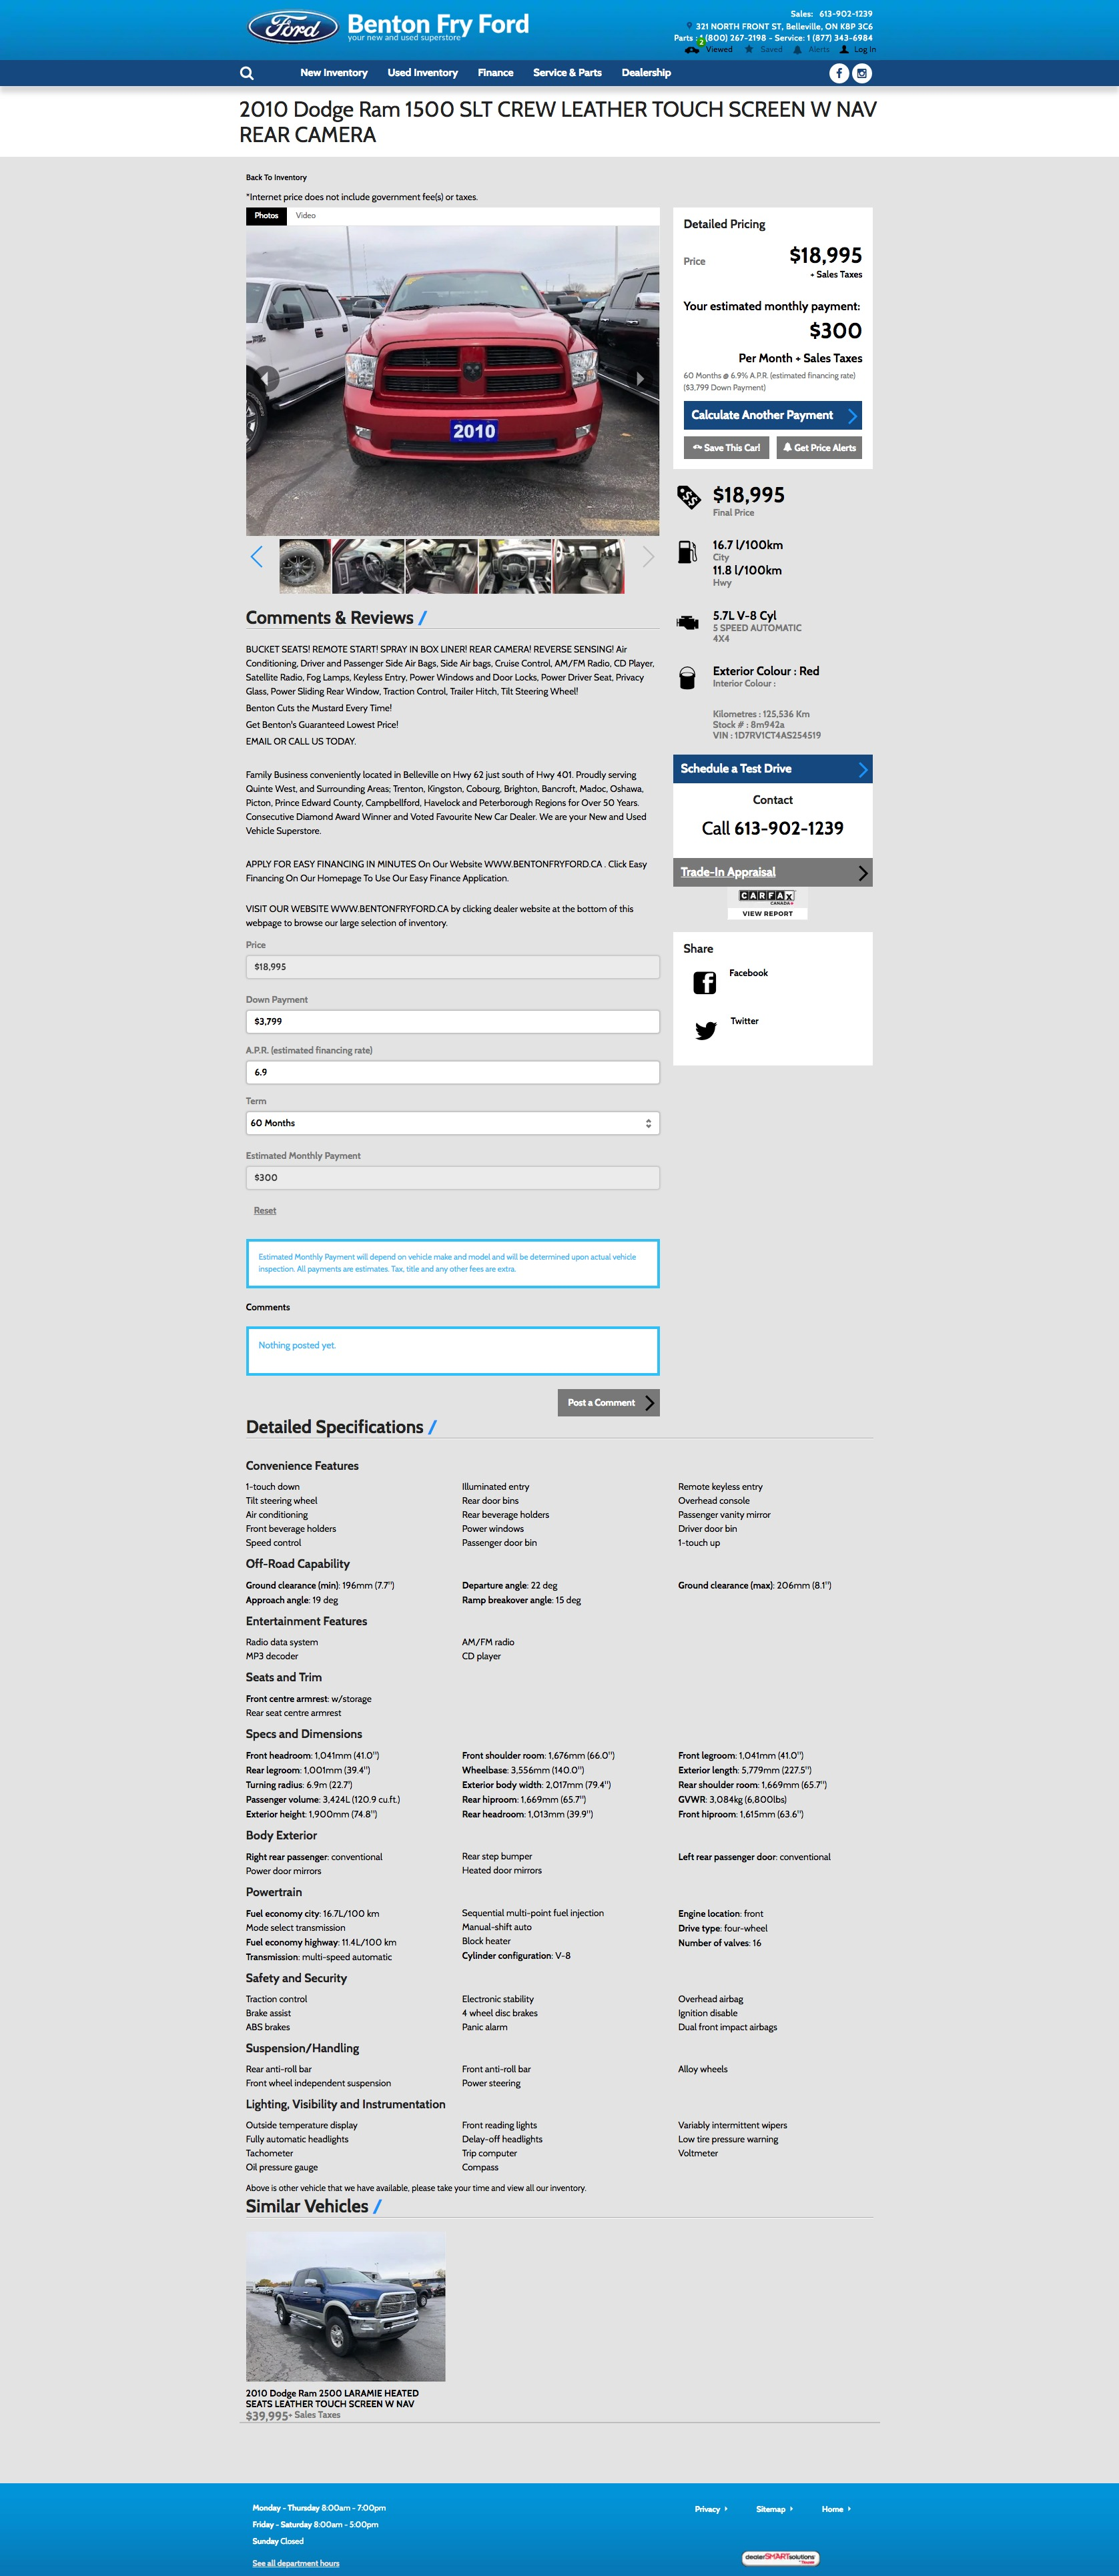car: (639, 545, 657, 568)
